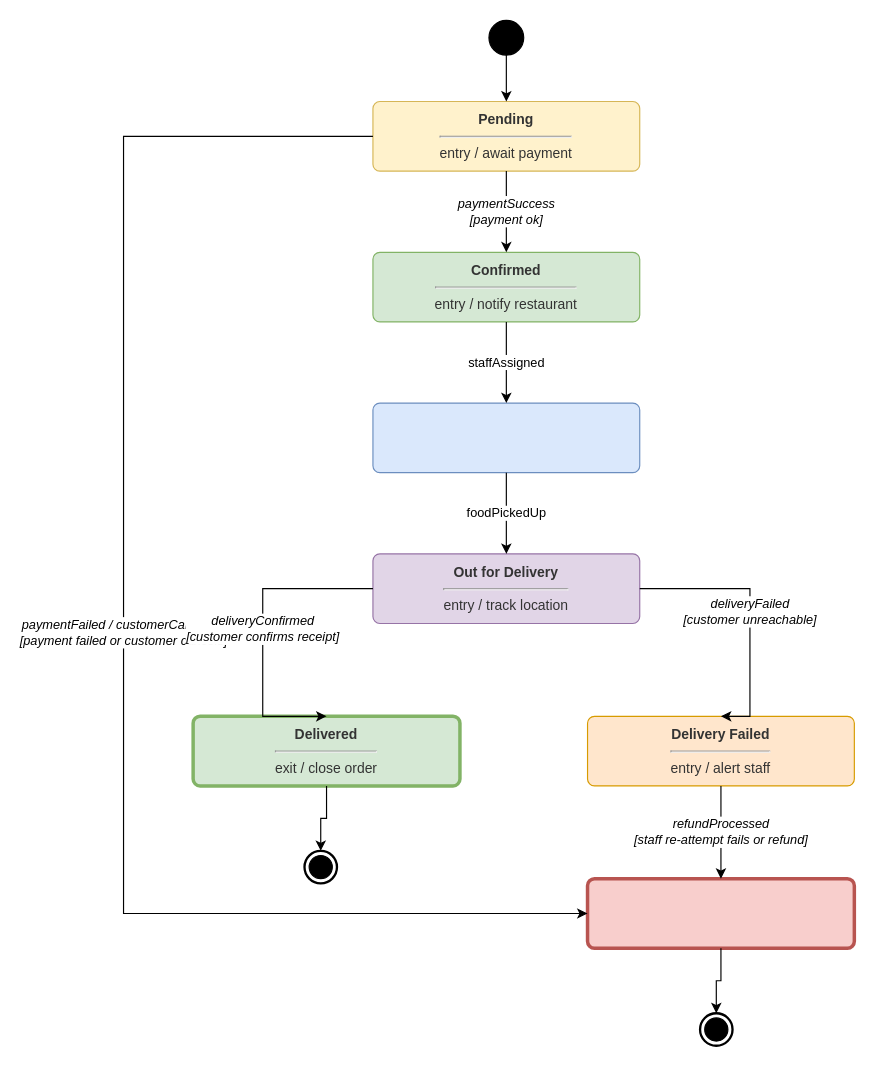
Image size: 876x1067. Some labels were removed from this diagram. Here are the shapes that lost their labels. From the top down, the box of each, then its label:
(372, 402, 640, 473): Preparing entry / notify delivery staff
(585, 876, 855, 949): Cancelled exit / notify customer
